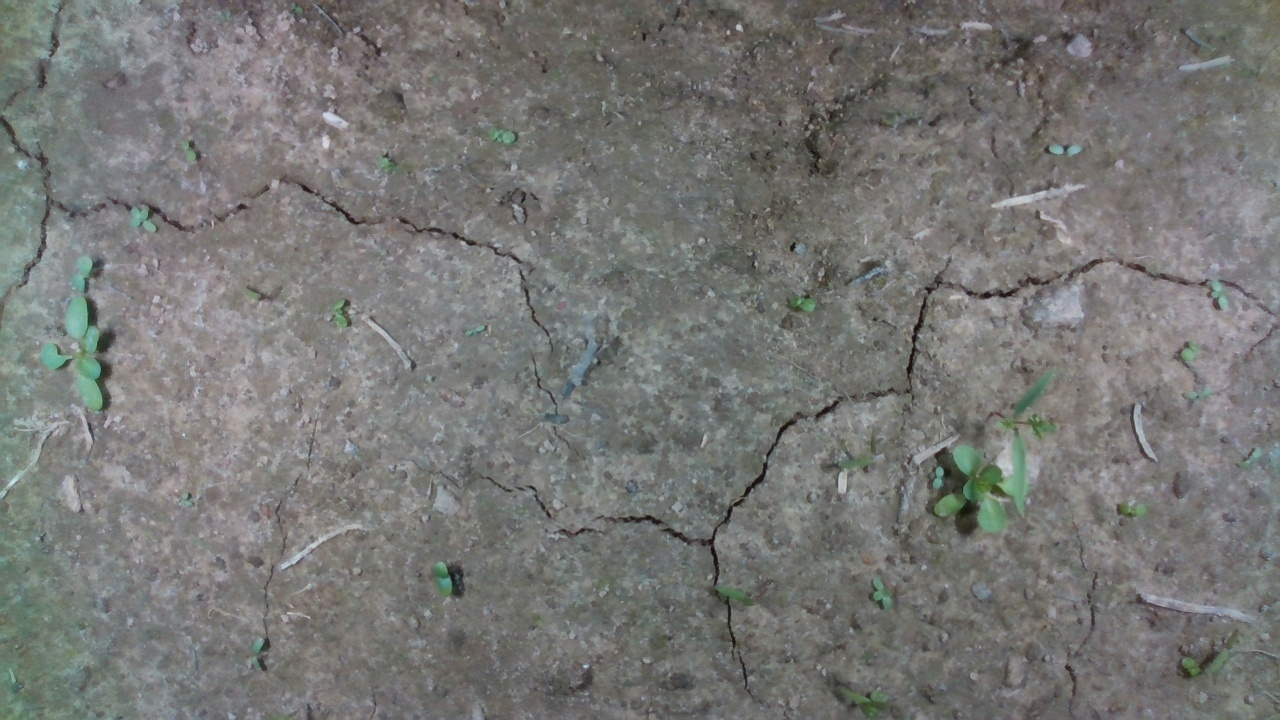weed: (317, 294, 379, 331), (423, 559, 461, 601), (178, 133, 220, 168), (119, 205, 165, 235), (868, 574, 897, 617), (1209, 280, 1235, 324), (786, 288, 830, 311), (1041, 138, 1085, 160), (491, 125, 523, 149), (1171, 335, 1195, 366), (1121, 499, 1152, 523), (373, 152, 398, 169), (931, 465, 944, 491)
